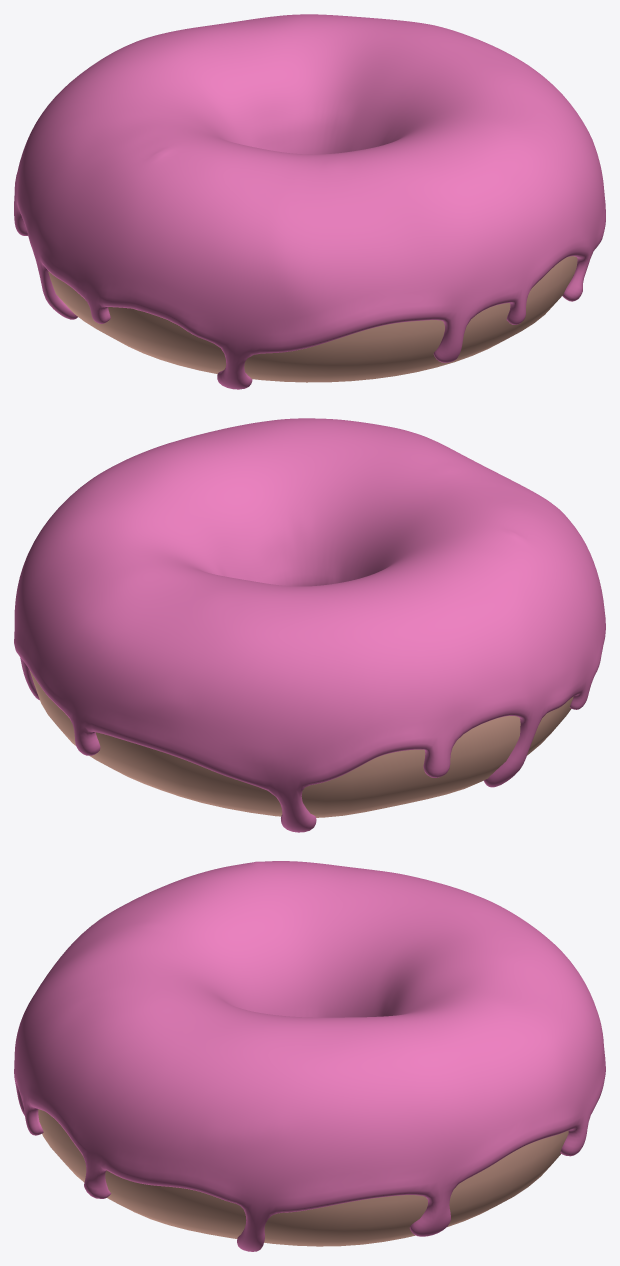
The model's file is donut.glb.
3 renders of one model, top to bottom at view 1: azimuth 30°, elevation 25°; view 2: azimuth 150°, elevation 25°; view 3: azimuth 270°, elevation 25°, orthographic. The views are drawn at different scales.
Parts seen in each view (by area): view 1: Donut.001, Donut; view 2: Donut.001, Donut; view 3: Donut.001, Donut.
Boxes of the visible parts, x1,y1,x2,y2 form: Donut.001: [14, 14, 605, 389]; Donut: [48, 256, 577, 382]; Donut.001: [14, 418, 605, 832]; Donut: [29, 670, 573, 817]; Donut.001: [14, 861, 605, 1251]; Donut: [38, 1109, 568, 1246].
Size of the model in its own units: 2.42 by 0.9832 by 2.43.
